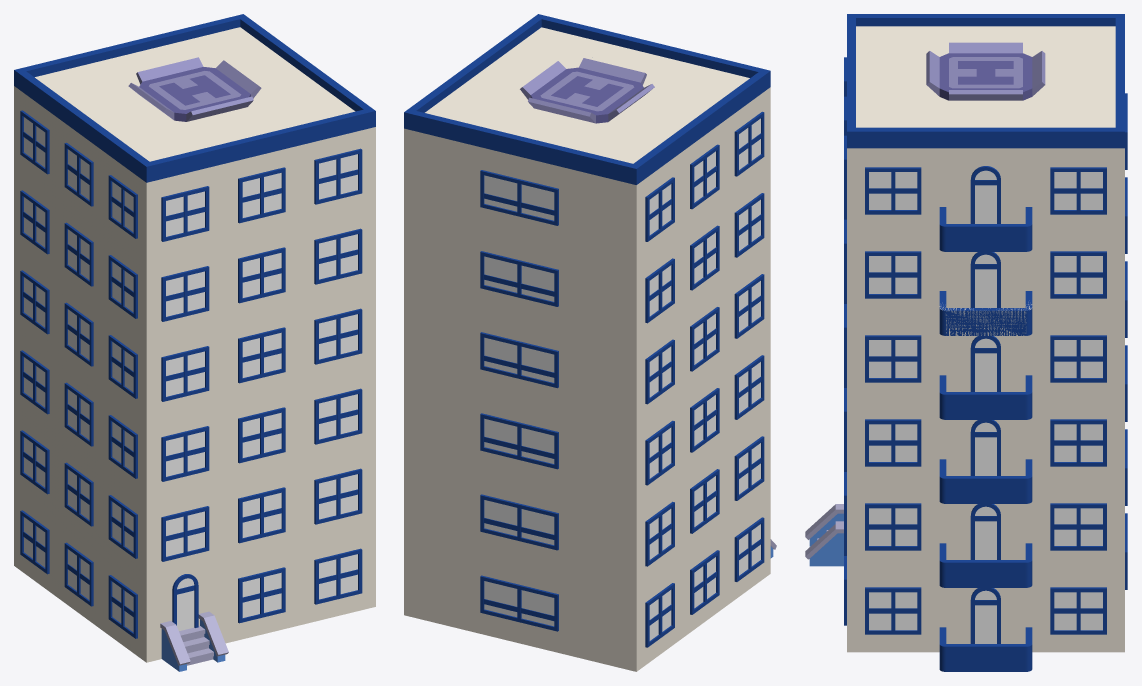
The model's file is M1_Condo01.fbx.
The picture shows the model from 3 angles, left to right: view 1: azimuth 30°, elevation 25°; view 2: azimuth 150°, elevation 25°; view 3: azimuth 270°, elevation 25°; orthographic projection. The views are drawn at different scales.
Visible parts, largest first — view 1: mergedBlocks; view 2: mergedBlocks; view 3: mergedBlocks.
Part boxes in pixels (bbox=[...]): mergedBlocks: bbox=[14, 14, 375, 671]; mergedBlocks: bbox=[404, 14, 776, 671]; mergedBlocks: bbox=[805, 14, 1127, 671].
Bounding box in the file's own units: 35.3 × 62.77 × 34.79.
